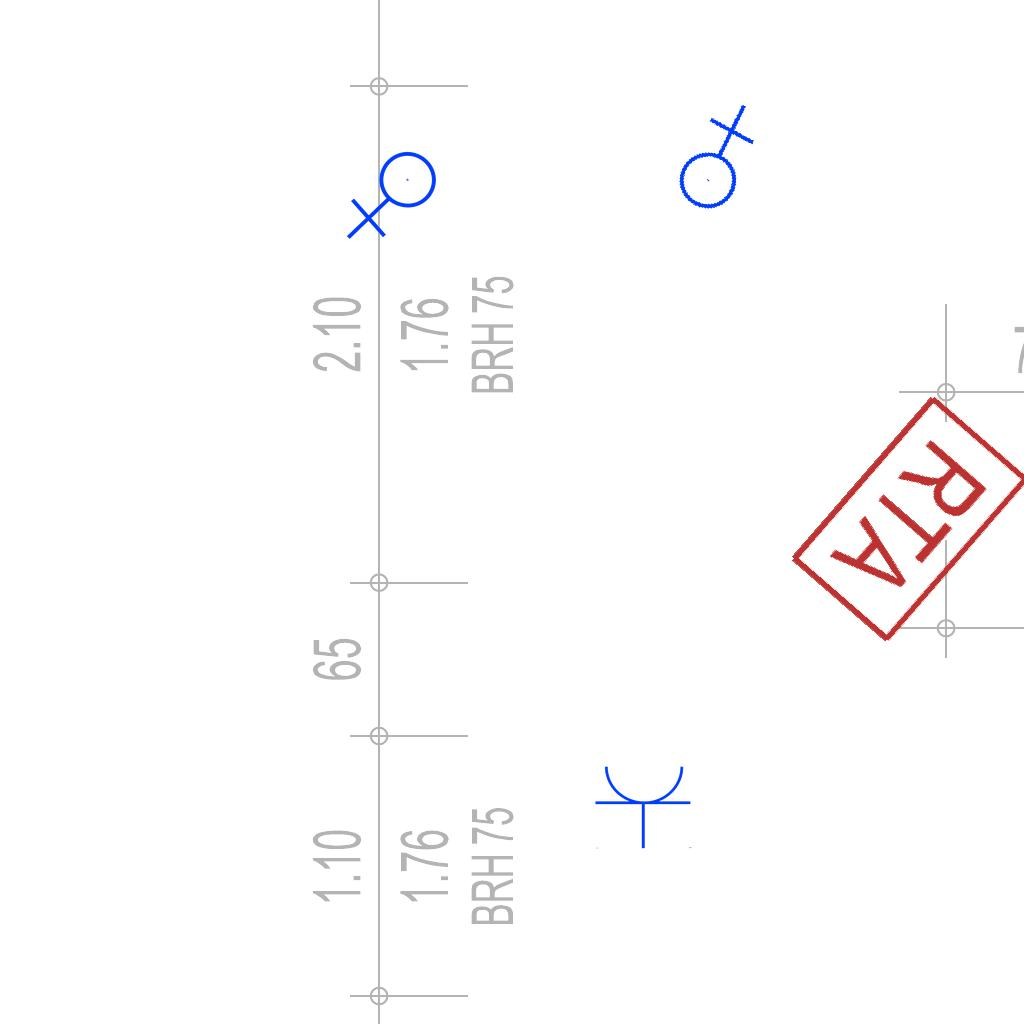Elektroanschluss_allgemein_230V_Geraeteanschlussdose_230V: (650, 98, 777, 222), (346, 150, 445, 244)
Ruf-und_Abstelltaster: (784, 385, 1024, 649)
Schukosteckdose_einfach: (594, 762, 694, 849)
